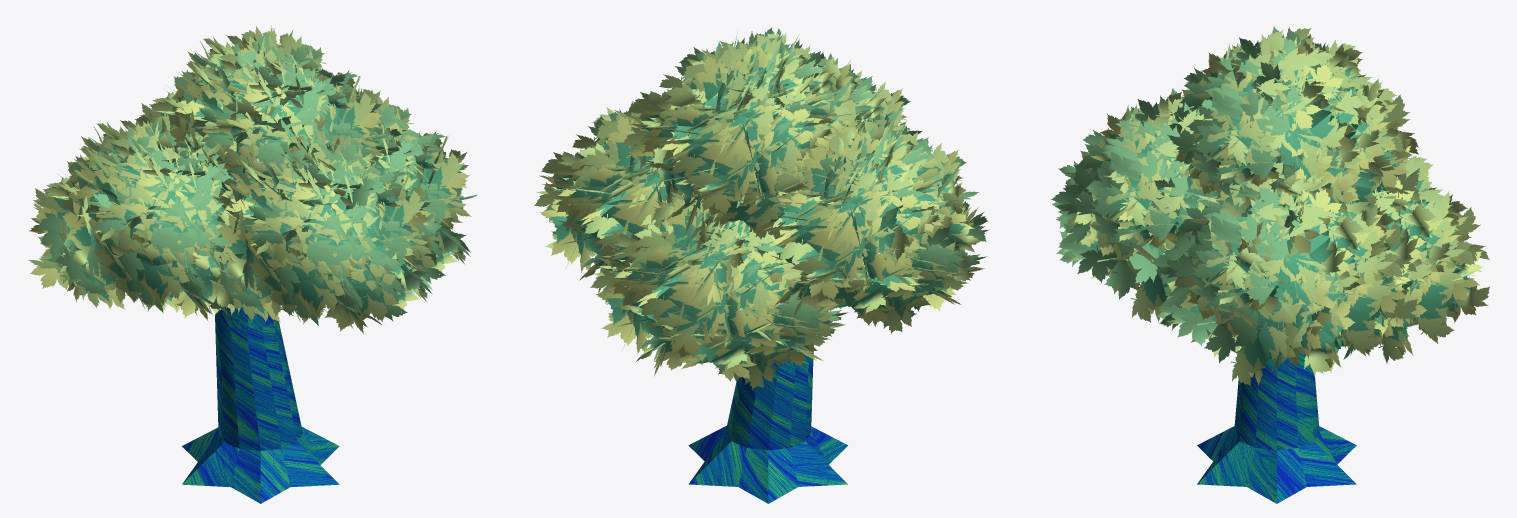
The model's file is big_tree.fbx.
3 views of the same model, side by side, from view 1: azimuth 30°, elevation 25°; view 2: azimuth 150°, elevation 25°; view 3: azimuth 270°, elevation 25° (orthographic).
Parts seen in each view (by area): view 1: Plane.004, Circle.001; view 2: Plane.004, Circle.001; view 3: Plane.004, Circle.001.
Part boxes in pixels (box(x1,y1,x2,y2)): Plane.004: box(28, 25, 477, 333); Circle.001: box(182, 306, 339, 503); Plane.004: box(534, 27, 989, 389); Circle.001: box(688, 351, 847, 503); Plane.004: box(1051, 26, 1489, 385); Circle.001: box(1197, 350, 1356, 503).
Bounding box in the file's own units: 4473 × 4233 × 4017.
